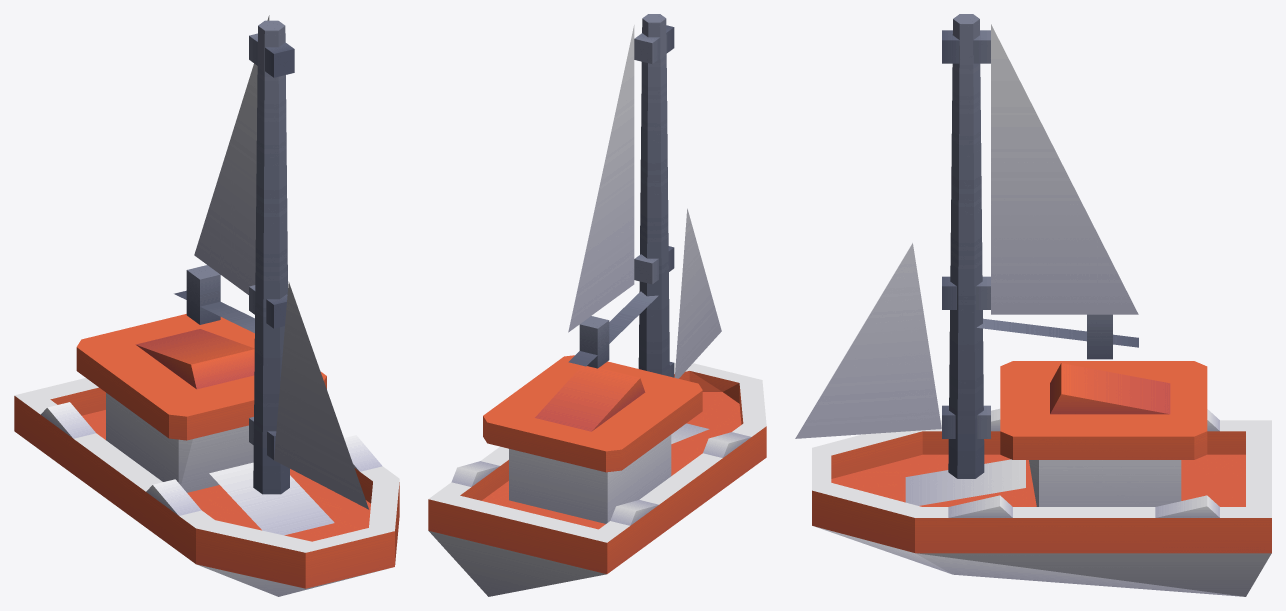
File: boat-sail.glb
3 renders of one model, left to right at view 1: azimuth 30°, elevation 25°; view 2: azimuth 150°, elevation 25°; view 3: azimuth 270°, elevation 25°, orthographic. The views are drawn at different scales.
Visible parts, largest first — view 1: boat-sail-a, sail; view 2: boat-sail-a, sail; view 3: boat-sail-a, sail.
Part boxes in pixels (box(x1,y1,x2,y2)): boat-sail-a: box(14, 314, 399, 596); sail: box(174, 15, 368, 509); boat-sail-a: box(428, 355, 766, 596); sail: box(568, 14, 721, 378); boat-sail-a: box(812, 361, 1271, 596); sail: box(795, 14, 1138, 478).
Bounding box in the file's own units: 1.78 × 4.74 × 3.68.
1 material, 1 textured.
